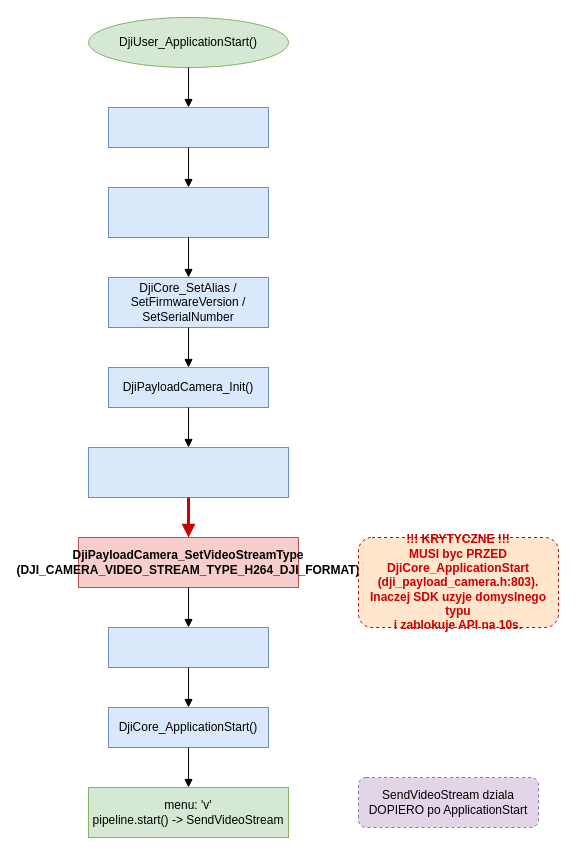
The diagram is 576 pixels wide and 855 high, and some of its shapes have lost their labels. The centre of each missing label's shape, as x and y in pixels:
"DjiAircraftInfo_GetBaseInfo + sprawdzenie mount position" goes at point (188, 212).
"DjiCore_Init(userInfo)" goes at point (188, 127).
"DjiPayloadCamera_RegCommonHandler (GetSystemState / SetMode / GetMode)" goes at point (188, 472).
"inne rejestracje (gimbal, widget, power...)" goes at point (188, 647).
